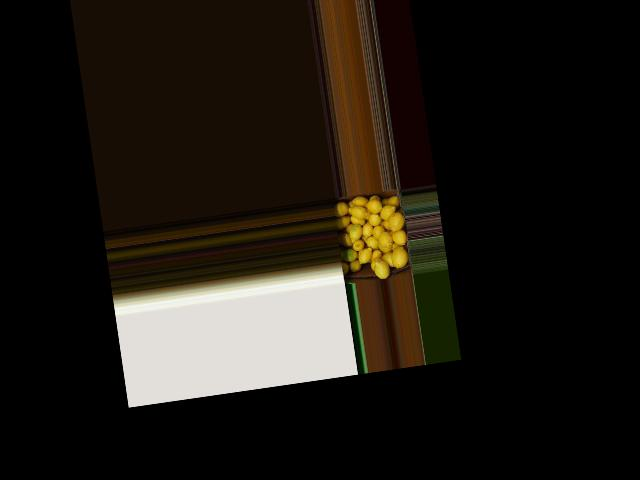lemon: (364, 236, 378, 248)
